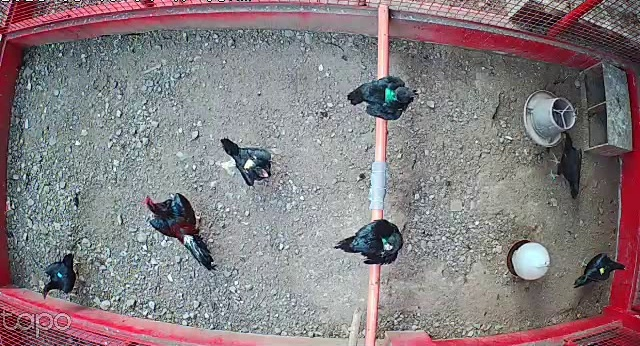Chicken: (331, 215, 411, 262), (344, 75, 421, 121), (545, 130, 586, 199), (219, 134, 273, 186), (39, 248, 88, 302), (572, 249, 628, 289)
Rooster: (142, 187, 214, 270)
Saddle_Color_Blue: (56, 272, 64, 278)
Saddle_Color_Yellow: (245, 158, 258, 172)
